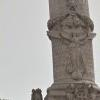Statue: (43, 9, 98, 86)
